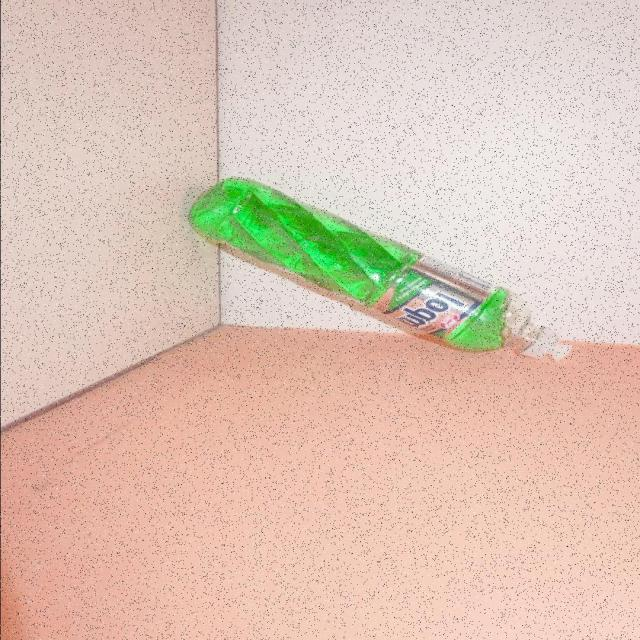Cleaner: (184, 176, 572, 362)
